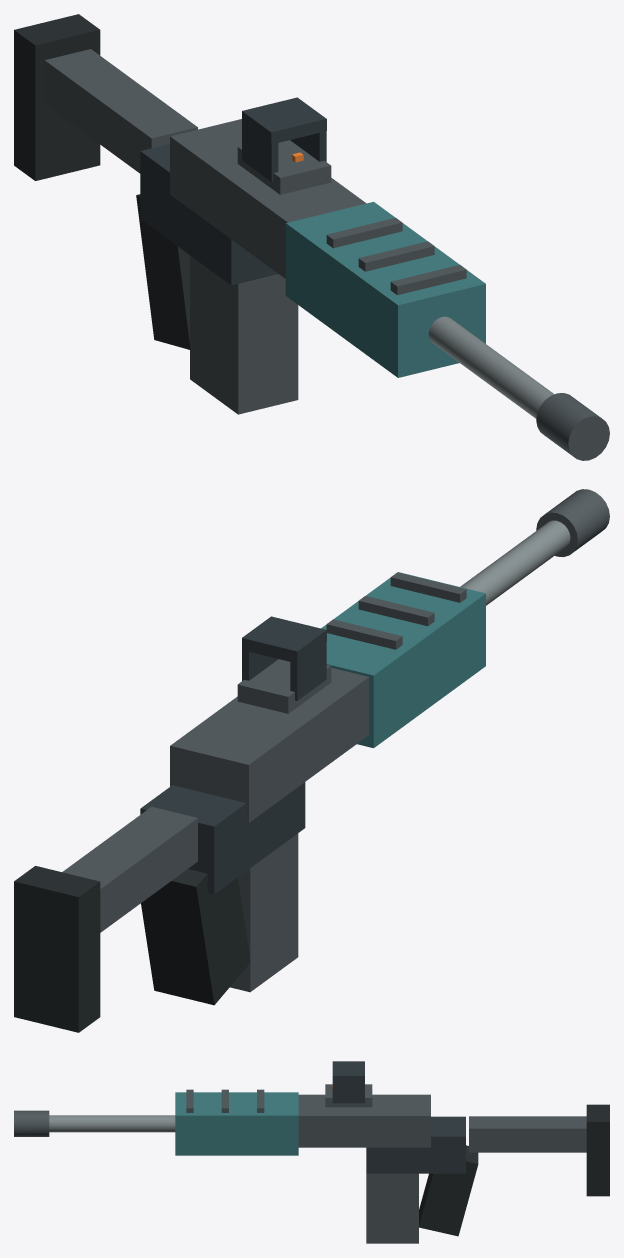
Rendered from patrol-carbine-lod0.glb.
3 views of the same model, one above another, from view 1: azimuth 30°, elevation 25°; view 2: azimuth 150°, elevation 25°; view 3: azimuth 270°, elevation 25° (orthographic). The views are drawn at different scales.
Parts seen in each view (by area): view 1: frame, magazine, bolt; view 2: frame, bolt, magazine; view 3: frame, bolt, magazine.
Boxes of the visible parts, x1,y1,x2,y2 form: frame: (14,14,609,460); magazine: (190,255,298,414); bolt: (170,119,366,278); frame: (14,489,609,1032); bolt: (170,667,369,822); magazine: (230,833,298,992); frame: (14,1061,609,1236); bolt: (298,1094,430,1147); magazine: (366,1173,418,1243).
Size of the model in its own units: 0.19 by 0.6275 by 2.03.
